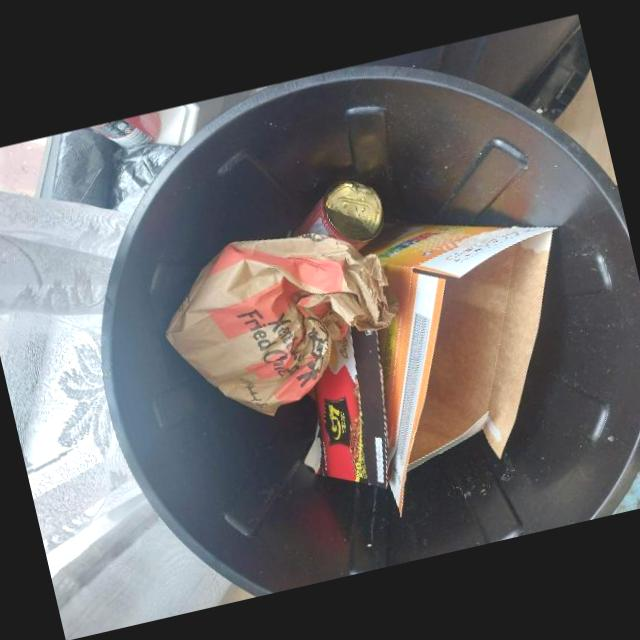carton: (365, 223, 554, 512), (303, 325, 388, 487)
giay: (165, 231, 397, 414)
nhom: (293, 179, 383, 251)
